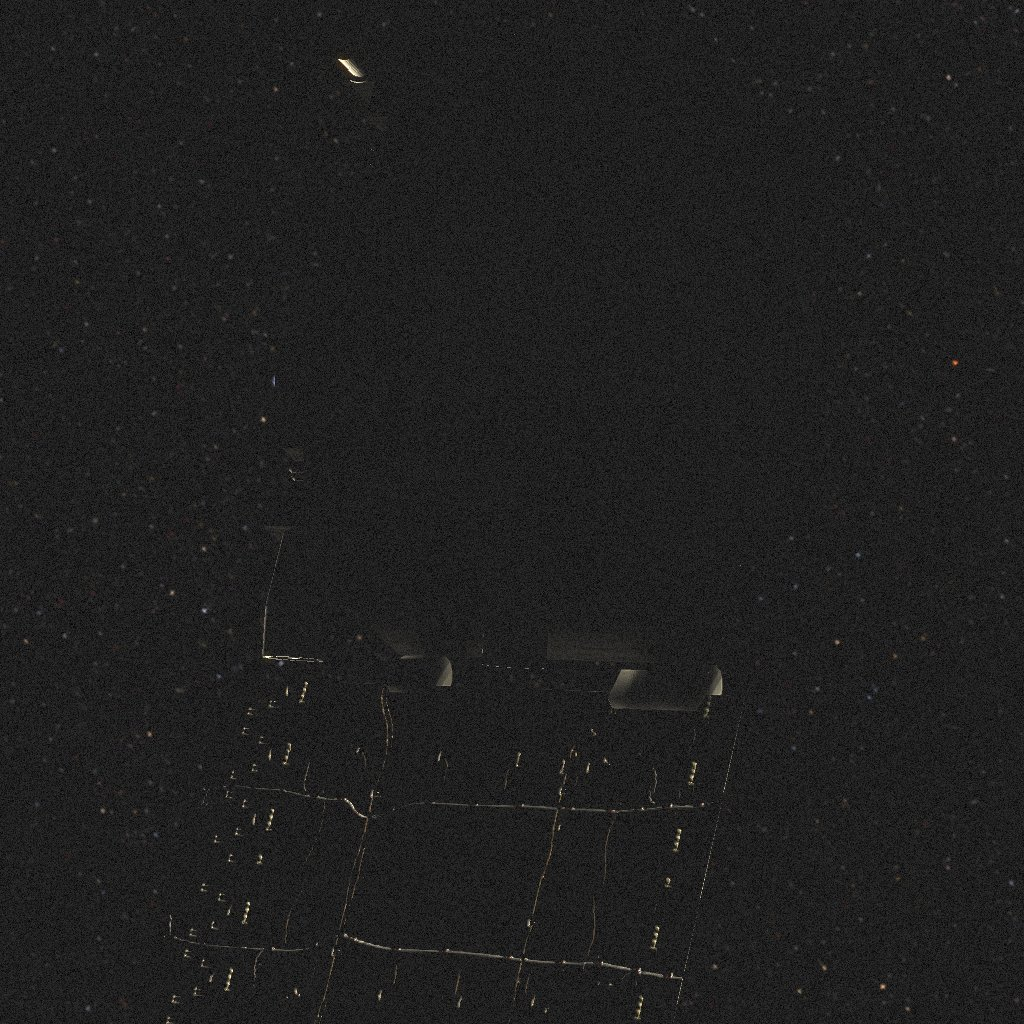proba_3_csc: (137, 15, 833, 1024)
